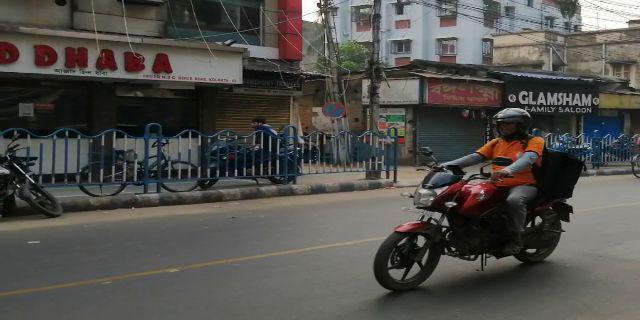Motorbike: (362, 104, 590, 294)
